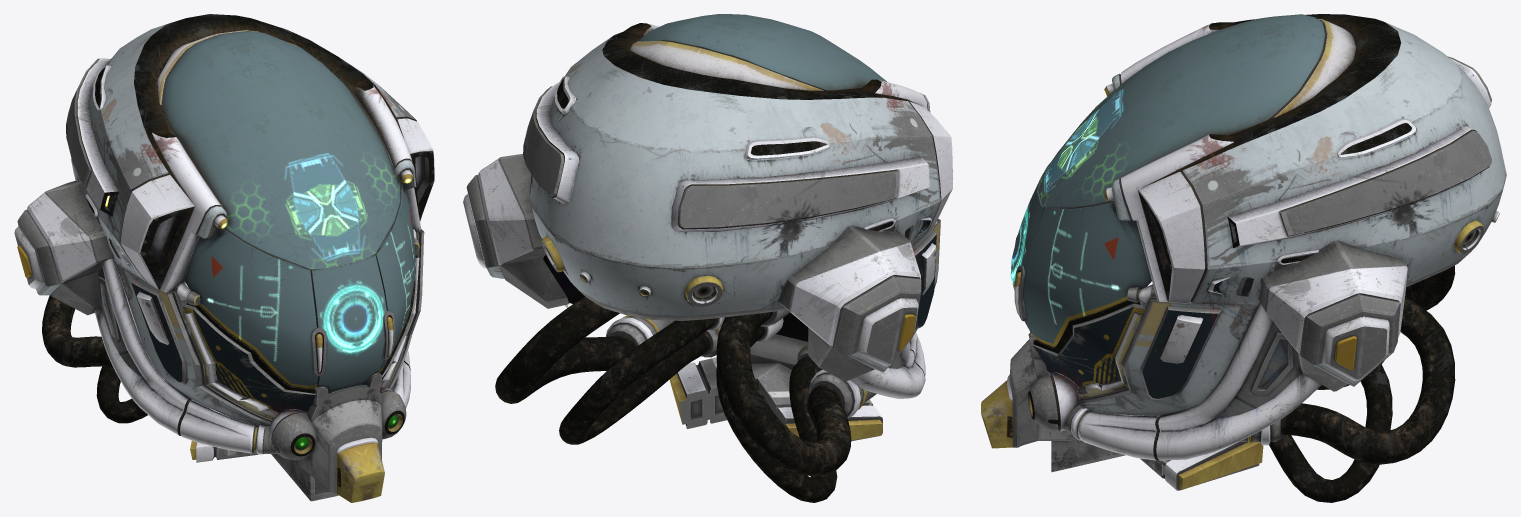
The model's file is DamagedHelmet.glb.
The picture shows the model from 3 angles, left to right: view 1: azimuth 30°, elevation 25°; view 2: azimuth 150°, elevation 25°; view 3: azimuth 270°, elevation 25°; orthographic projection. The views are drawn at different scales.
Visible parts, largest first — view 1: node_damagedHelmet_-104796; view 2: node_damagedHelmet_-104796; view 3: node_damagedHelmet_-104796.
Boxes of the visible parts, left/top/right/bottom form: node_damagedHelmet_-104796: left=14, top=14, right=434, bottom=502; node_damagedHelmet_-104796: left=463, top=14, right=952, bottom=502; node_damagedHelmet_-104796: left=981, top=14, right=1506, bottom=502.
Bounding box in the file's own units: 1.89 × 1.8 × 2.
1 material, 1 textured.
